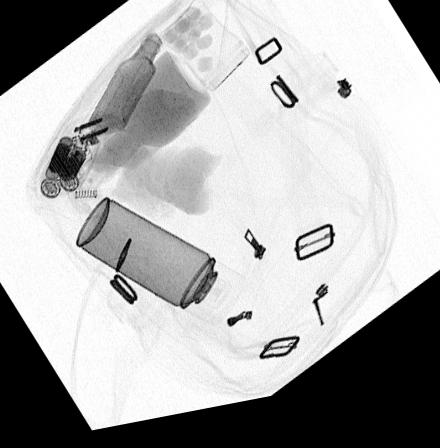Sprayer: (74, 197, 248, 334)
